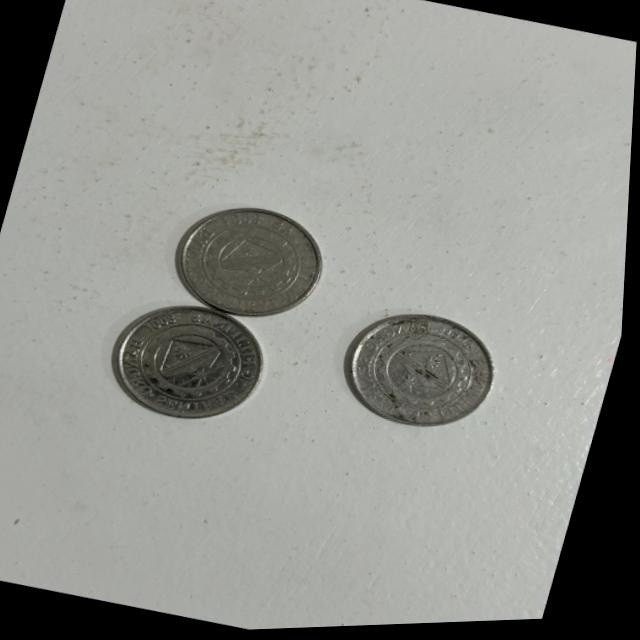1_Old_Back: (127, 308, 265, 418), (188, 211, 321, 320), (365, 322, 490, 426)
